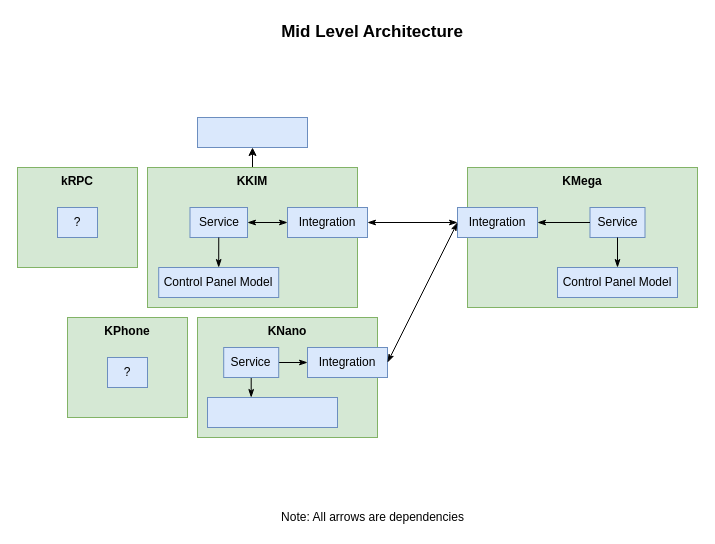
This 715x544 diagram has some shape labels left out. The centre of each missing label's shape, as x and y in pixels:
Altitude Gauge Model: point 272,412
KKIMProperties: point 252,132
